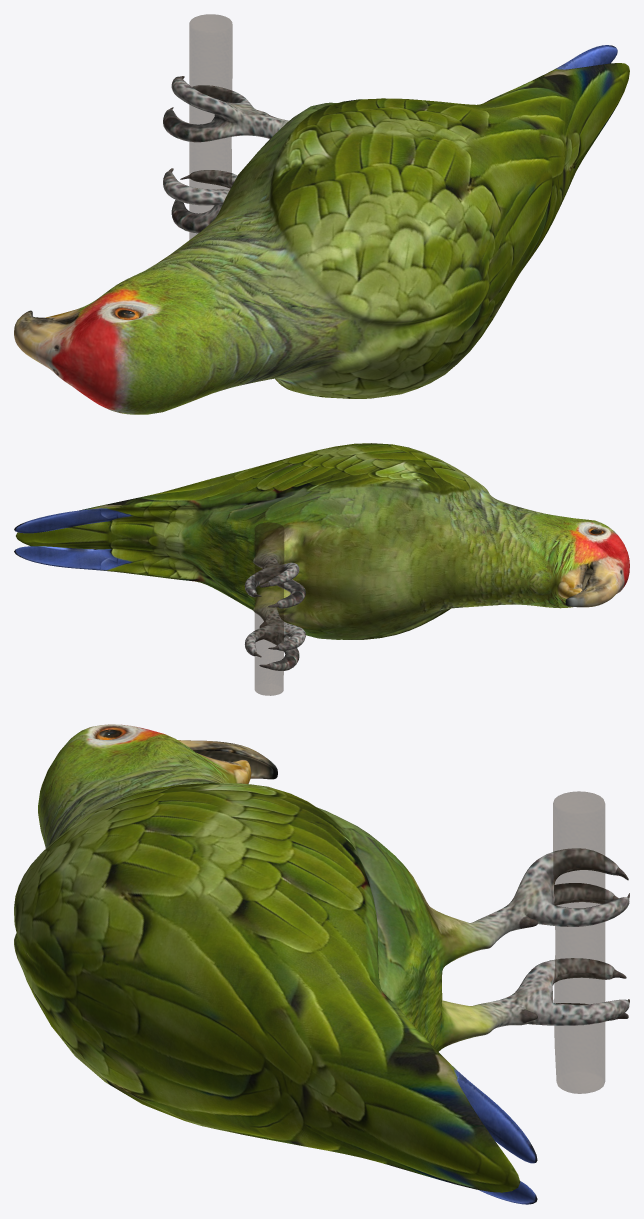
The model's file is bird_amazon_parrot.glb.
3 renders of one model, top to bottom at view 1: azimuth 30°, elevation 25°; view 2: azimuth 150°, elevation 25°; view 3: azimuth 270°, elevation 25°, orthographic. The views are drawn at different scales.
Parts seen in each view (by area): view 1: 12232_amazon_parrot_v1_L2; view 2: 12232_amazon_parrot_v1_L2; view 3: 12232_amazon_parrot_v1_L2.
Boxes of the visible parts, left/top/right/bottom form: 12232_amazon_parrot_v1_L2: left=14, top=14, right=629, bottom=414; 12232_amazon_parrot_v1_L2: left=14, top=443, right=629, bottom=695; 12232_amazon_parrot_v1_L2: left=14, top=724, right=629, bottom=1204.
Size of the model in its own units: 31.36 by 10.06 by 18.91.
2 materials, 2 textured.
